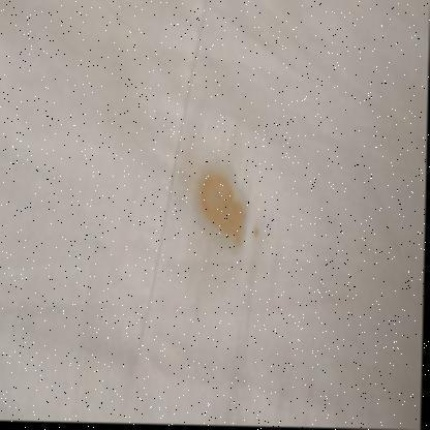kimchi: (189, 167, 254, 251)
